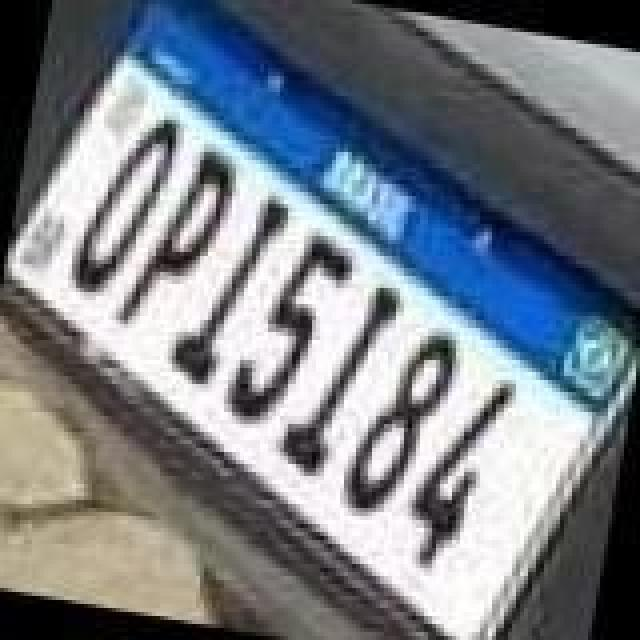4: (396, 366, 516, 578)
5: (218, 224, 358, 440)
8: (334, 320, 466, 528)
D: (66, 102, 190, 306)
I: (272, 268, 408, 484), (158, 178, 290, 398)
P: (110, 136, 242, 344)
